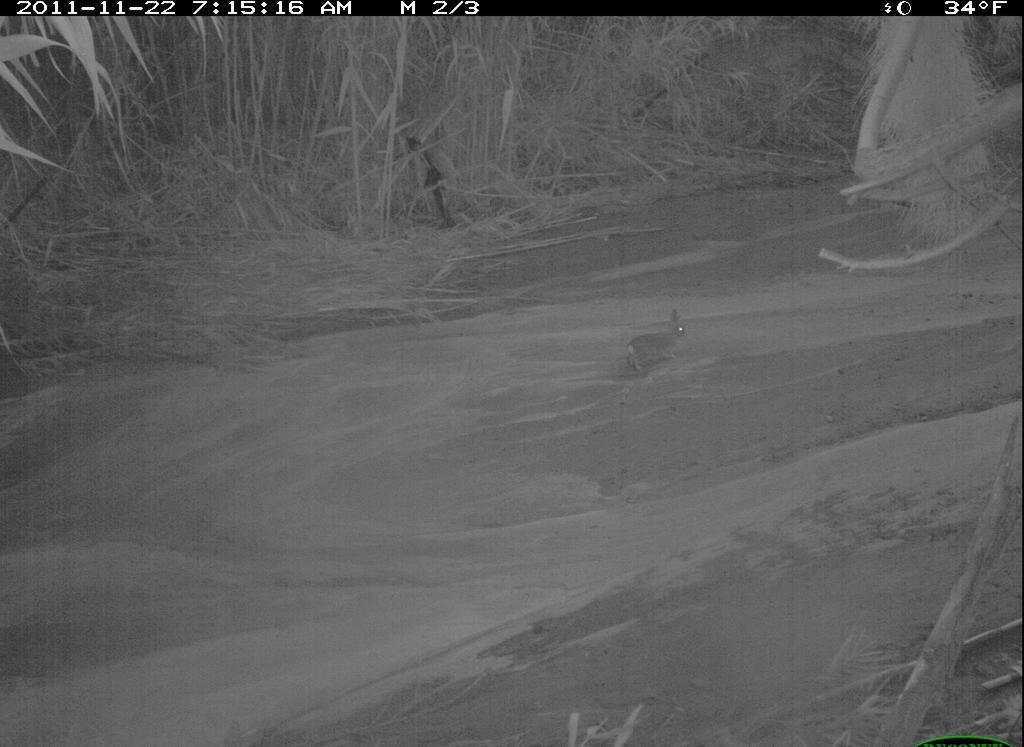rabbit: (615, 296, 705, 378)
